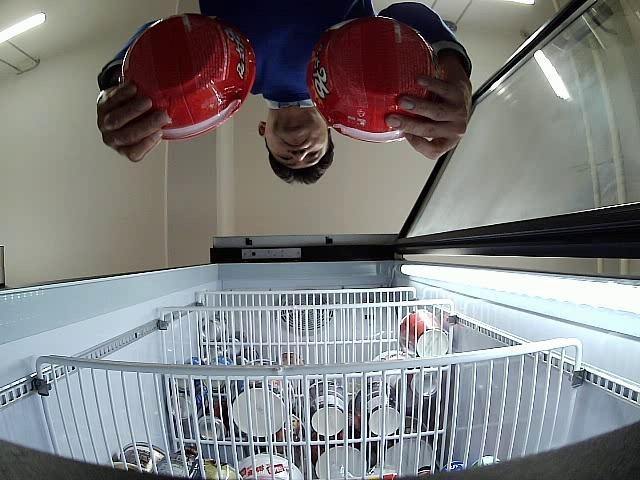10_wangTtukkeong: (120, 14, 256, 139), (308, 17, 442, 142)
